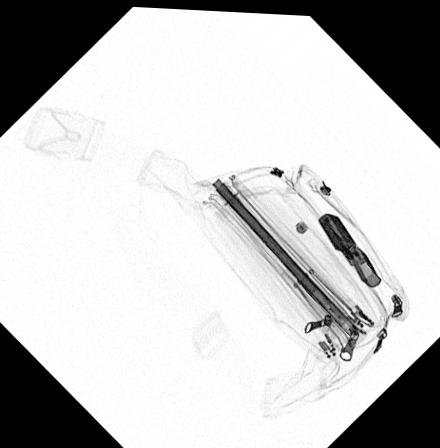Lighter: (317, 207, 381, 283)
